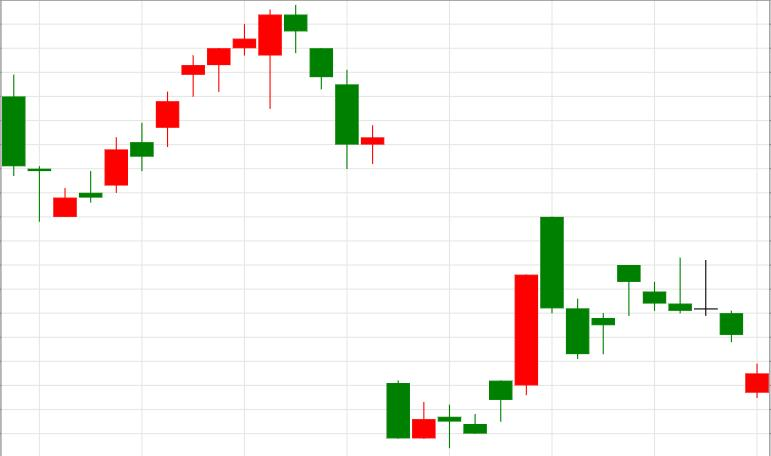hanging_man_fall: (156, 9, 282, 146)
